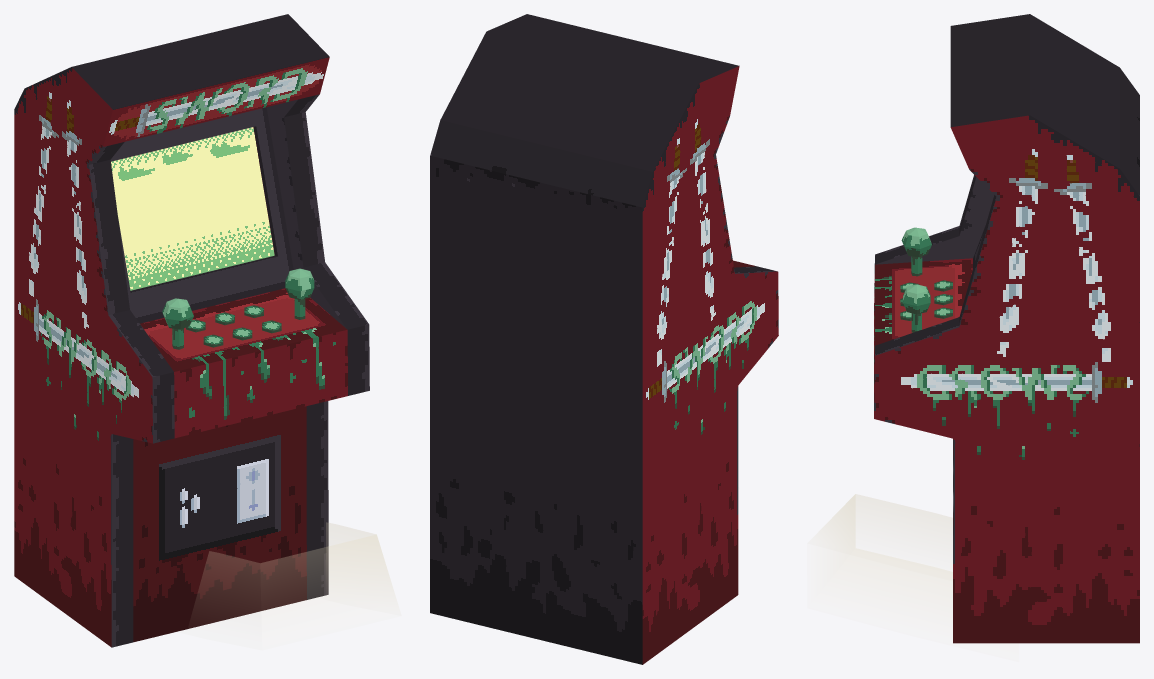
Rendered from arcade-machine---pixel-art-low-poly-2e95a4.glb.
3 views of the same model, side by side, from view 1: azimuth 30°, elevation 25°; view 2: azimuth 150°, elevation 25°; view 3: azimuth 270°, elevation 25° (orthographic). The views are drawn at different scales.
Visible parts, largest first — view 1: PropMesh; view 2: PropMesh; view 3: PropMesh.
Boxes of the visible parts, x1=… form: PropMesh: x1=14, y1=14, x2=396, y2=647; PropMesh: x1=430, y1=14, x2=778, y2=664; PropMesh: x1=816, y1=14, x2=1139, y2=643.
Bounding box in the file's own units: 0.8189 × 2.2 × 1.14.
Materials: 5 (5 with a texture image).
